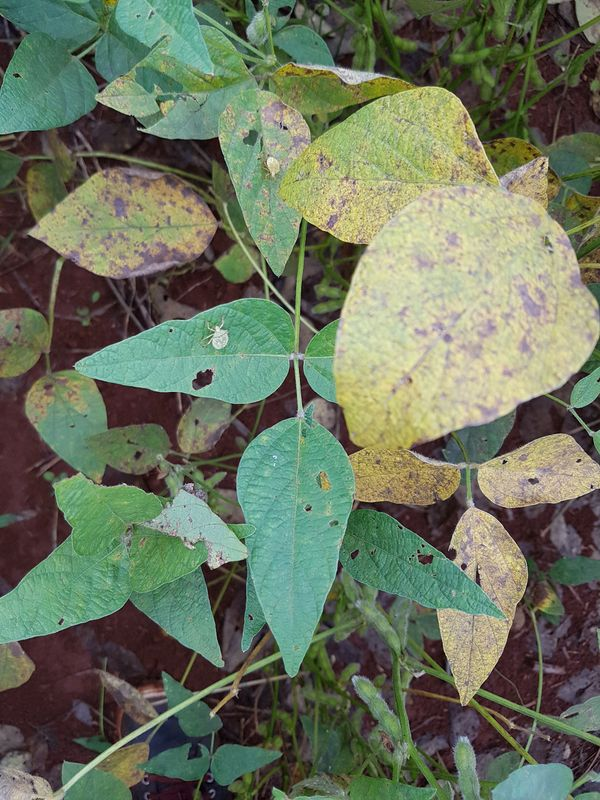Euschistus_heros_ninfa: (199, 315, 236, 355), (256, 155, 284, 182)
